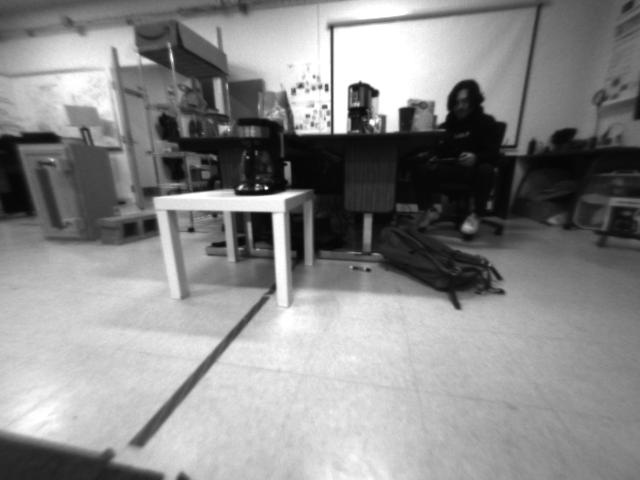coffee_pot: (229, 114, 292, 195)
